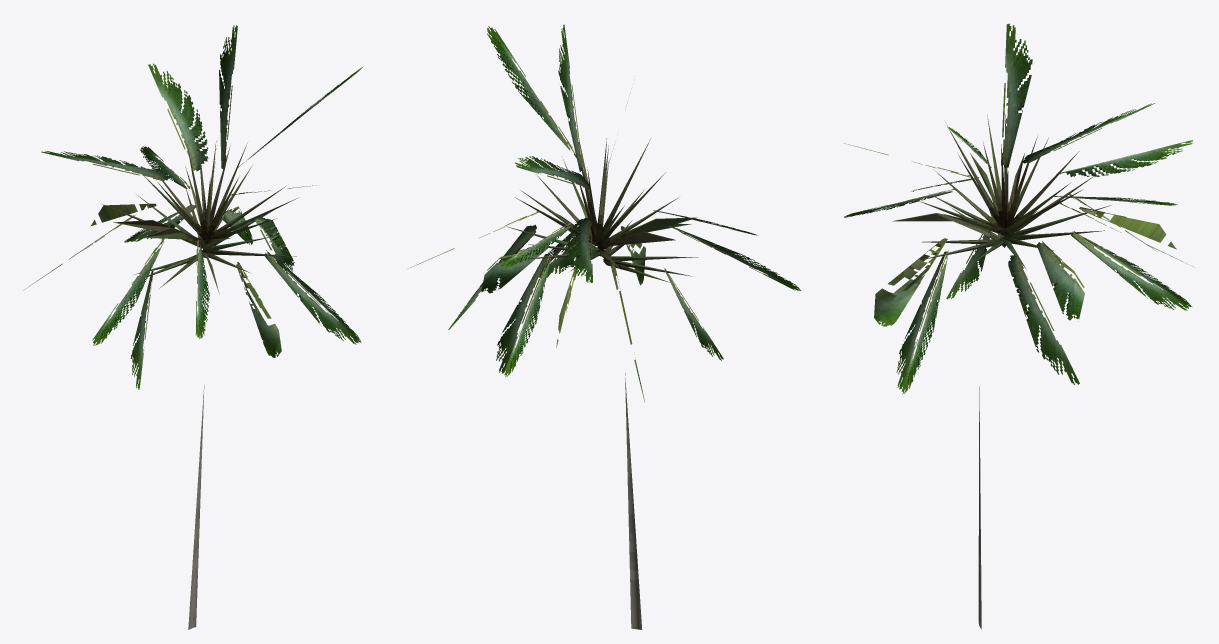
Rendered from palm-small.lod2.glb.
The picture shows the model from 3 angles, left to right: view 1: azimuth 30°, elevation 25°; view 2: azimuth 150°, elevation 25°; view 3: azimuth 270°, elevation 25°; orthographic projection. The views are drawn at different scales.
Parts seen in each view (by area): view 1: SM_MZRa_Palm_B082_MI_MZRa_Palm_B08a_0, SM_MZRa_Palm_B082_MI_MZRa_Palm_B08b_0; view 2: SM_MZRa_Palm_B082_MI_MZRa_Palm_B08a_0, SM_MZRa_Palm_B082_MI_MZRa_Palm_B08b_0; view 3: SM_MZRa_Palm_B082_MI_MZRa_Palm_B08a_0, SM_MZRa_Palm_B082_MI_MZRa_Palm_B08b_0.
Boxes of the visible parts, x1,y1,x2,y2 form: SM_MZRa_Palm_B082_MI_MZRa_Palm_B08a_0: (23, 25, 362, 389); SM_MZRa_Palm_B082_MI_MZRa_Palm_B08b_0: (102, 136, 299, 629); SM_MZRa_Palm_B082_MI_MZRa_Palm_B08a_0: (408, 24, 800, 402); SM_MZRa_Palm_B082_MI_MZRa_Palm_B08b_0: (506, 128, 698, 629); SM_MZRa_Palm_B082_MI_MZRa_Palm_B08a_0: (843, 23, 1194, 394); SM_MZRa_Palm_B082_MI_MZRa_Palm_B08b_0: (892, 114, 1111, 629).
Bounding box in the file's own units: 3.13 × 6 × 3.14.
2 materials, 2 textured.
